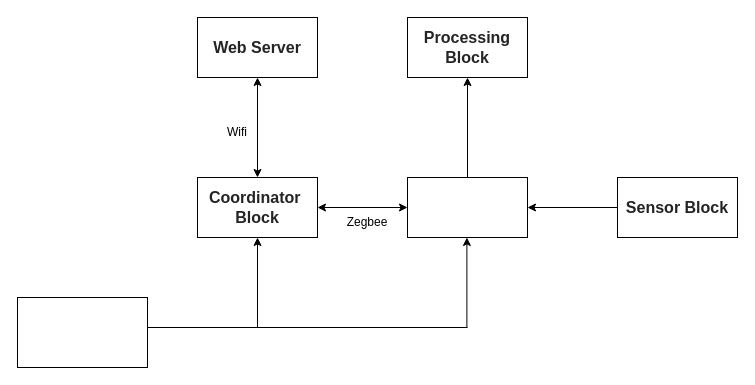
Some shapes in this 755 by 385 pixel diagram are drawn without their labels. Here are the shapes that lost their labels. From the top down, the box of each, then its label:
(406, 176, 528, 238): End Device Block
(16, 296, 148, 368): Power Supply Block (12 VDC)
